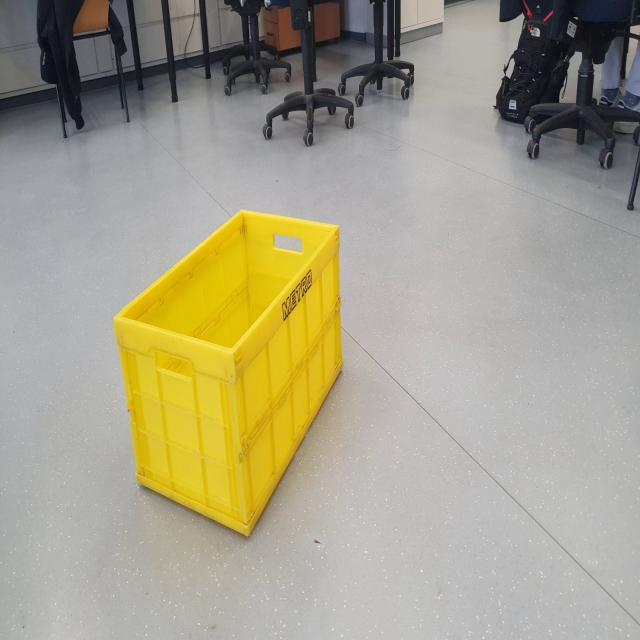box: (106, 202, 347, 542)
